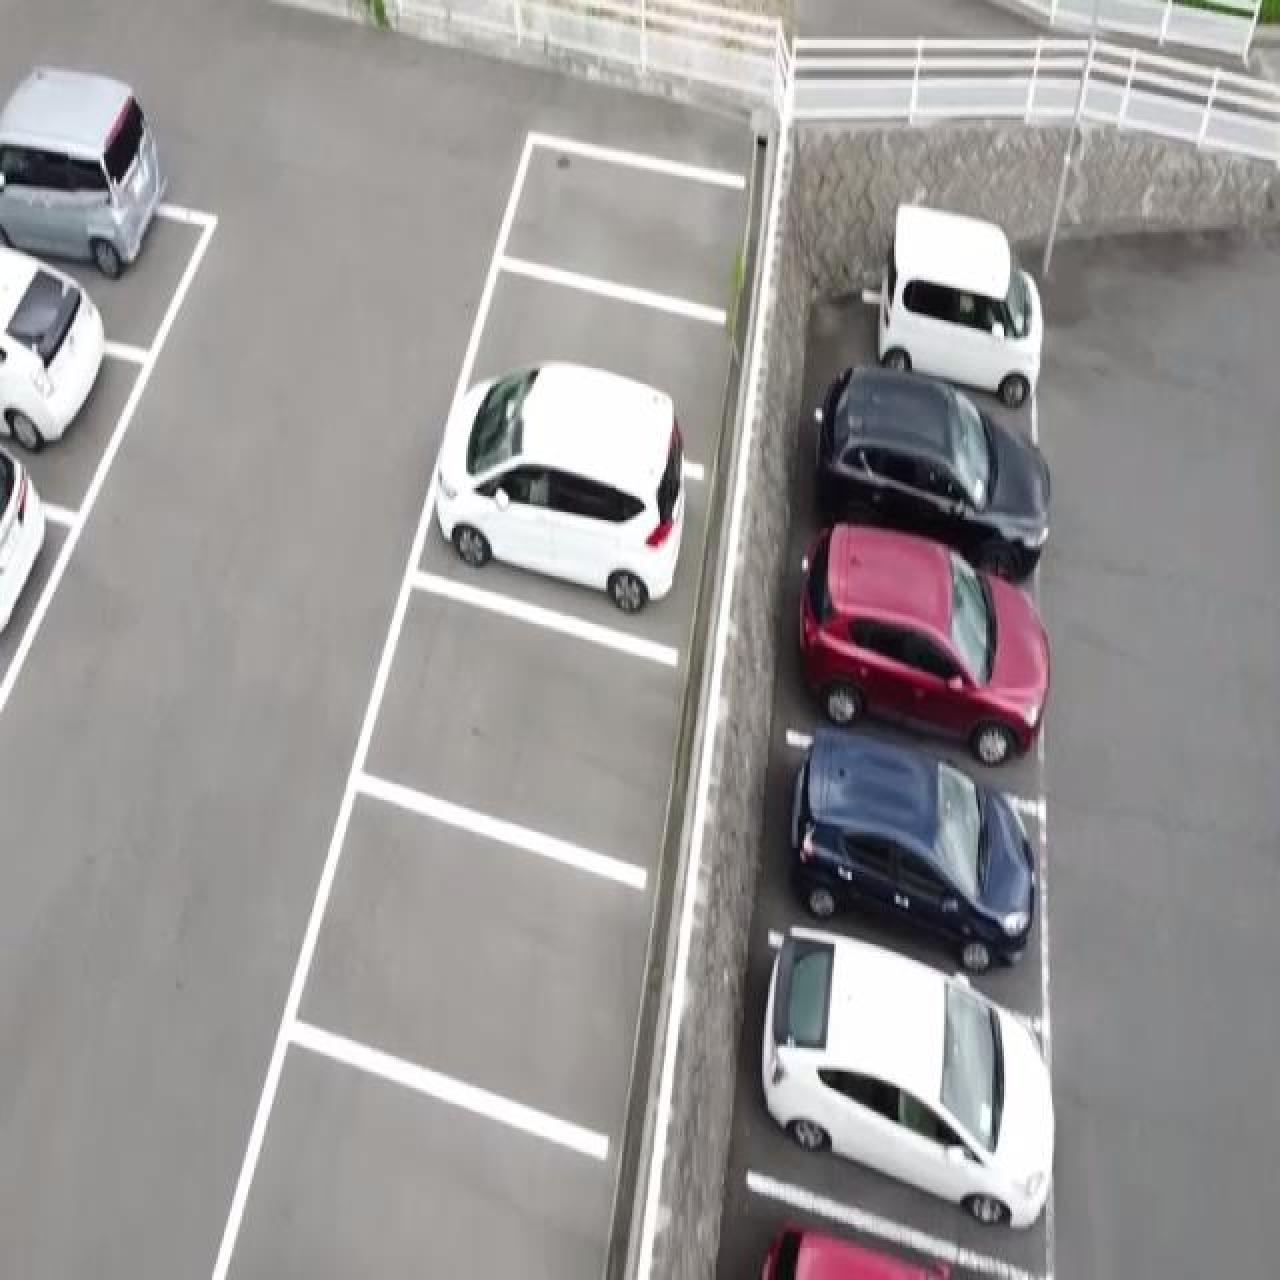car: (758, 922, 1054, 1230), (430, 358, 686, 614), (794, 520, 1050, 765), (787, 722, 1036, 972), (812, 362, 1051, 580), (0, 64, 166, 278), (874, 202, 1044, 408), (0, 244, 104, 452), (758, 1224, 952, 1278), (0, 442, 46, 638)
